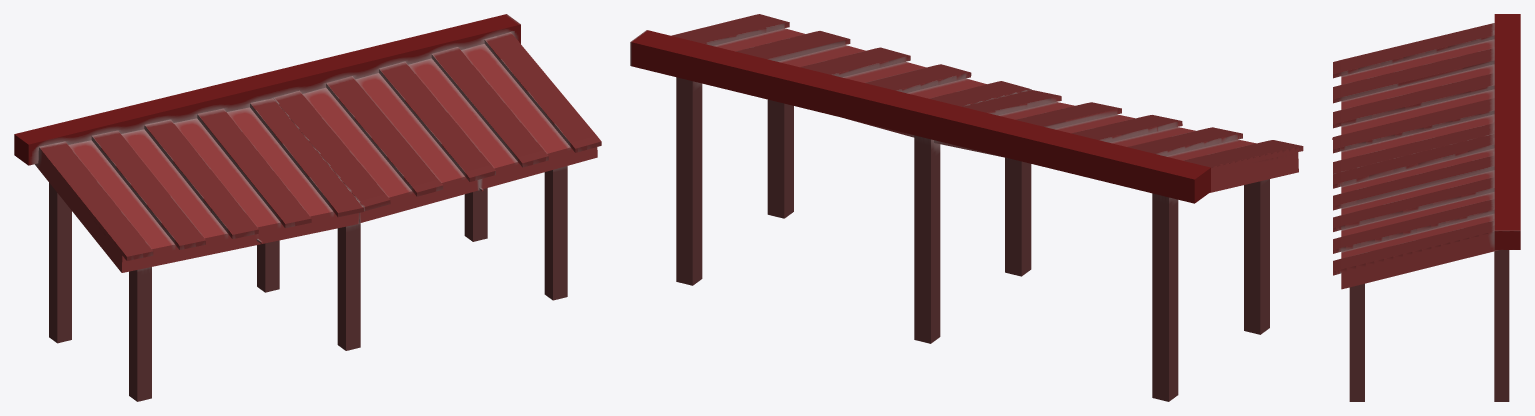
Rendered from PROP_warung .fbx.
The picture shows the model from 3 angles, left to right: view 1: azimuth 30°, elevation 25°; view 2: azimuth 150°, elevation 25°; view 3: azimuth 270°, elevation 25°; orthographic projection. The views are drawn at different scales.
Parts seen in each view (by area): view 1: Cube.029; view 2: Cube.029; view 3: Cube.029.
Part boxes in pixels (x1=…): Cube.029: x1=14, y1=14, x2=601, y2=401; Cube.029: x1=630, y1=14, x2=1303, y2=401; Cube.029: x1=1332, y1=14, x2=1520, y2=401.
Size of the model in its own units: 711 by 284 by 260.
